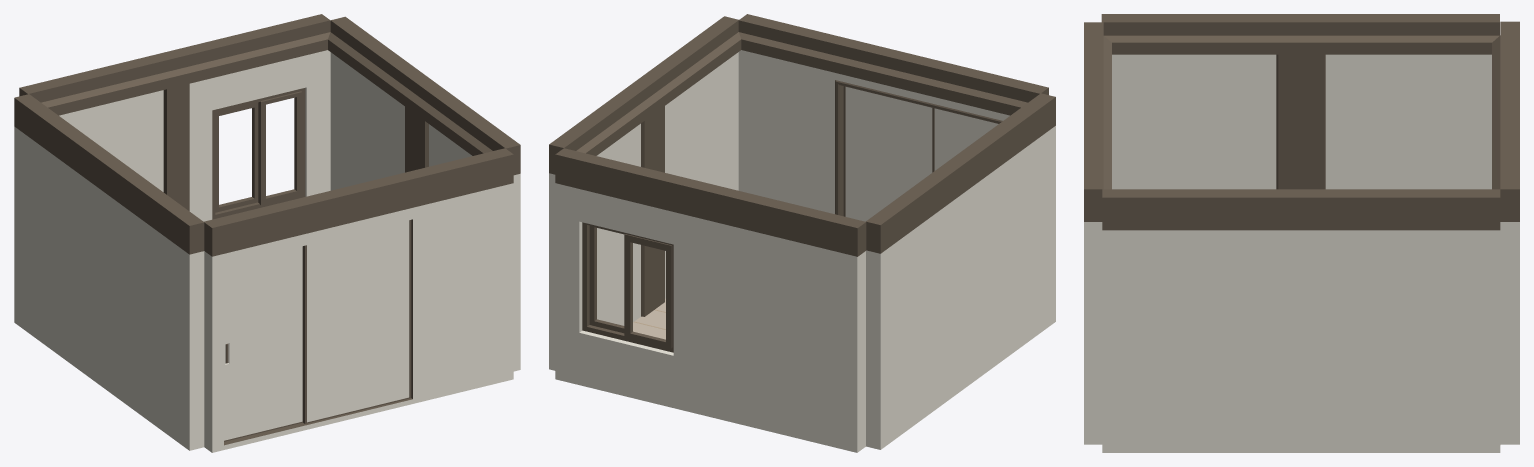
The model's file is M_Room.FBX.
3 views of the same model, side by side, from view 1: azimuth 30°, elevation 25°; view 2: azimuth 150°, elevation 25°; view 3: azimuth 270°, elevation 25° (orthographic). The views are drawn at different scales.
Visible parts, largest first — view 1: Box037; view 2: Box037; view 3: Box037.
Part boxes in pixels (x1=…): Box037: x1=14, y1=14, x2=520, y2=452; Box037: x1=549, y1=14, x2=1055, y2=452; Box037: x1=1084, y1=14, x2=1519, y2=452.
Bounding box in the file's own units: 444 × 445 × 293.
